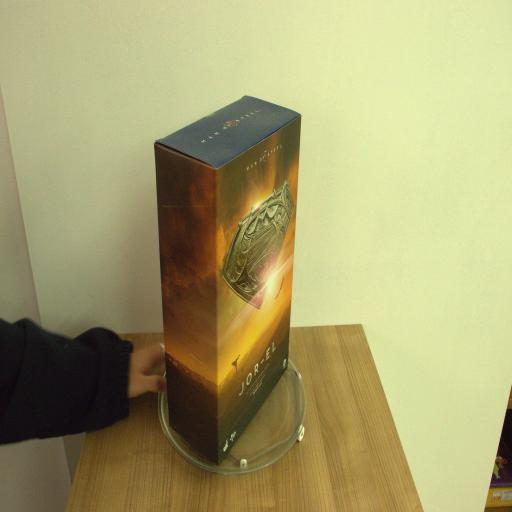superman: (154, 99, 302, 472)
